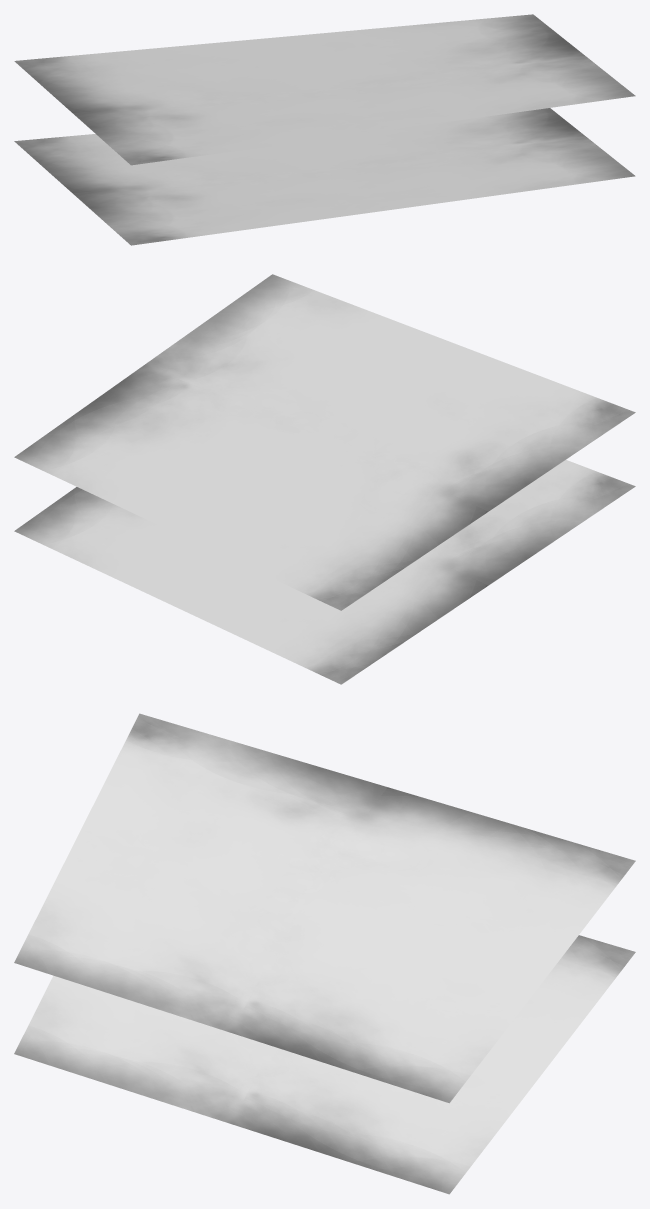
The model's file is CourseWinter_CurveFloor_1_3.fbx.
3 views of the same model, one above another, from view 1: azimuth 30°, elevation 25°; view 2: azimuth 150°, elevation 25°; view 3: azimuth 270°, elevation 25° (orthographic). The views are drawn at different scales.
Visible parts, largest first — view 1: polySurface627; view 2: polySurface627; view 3: polySurface627.
Part boxes in pixels (<box>): polySurface627: <box>14,14,635,245</box>; polySurface627: <box>14,274,635,684</box>; polySurface627: <box>14,713,635,1194</box>.
Bounding box in the file's own units: 7.03 × 2 × 6.19.
Materials: 1 (1 with a texture image).
